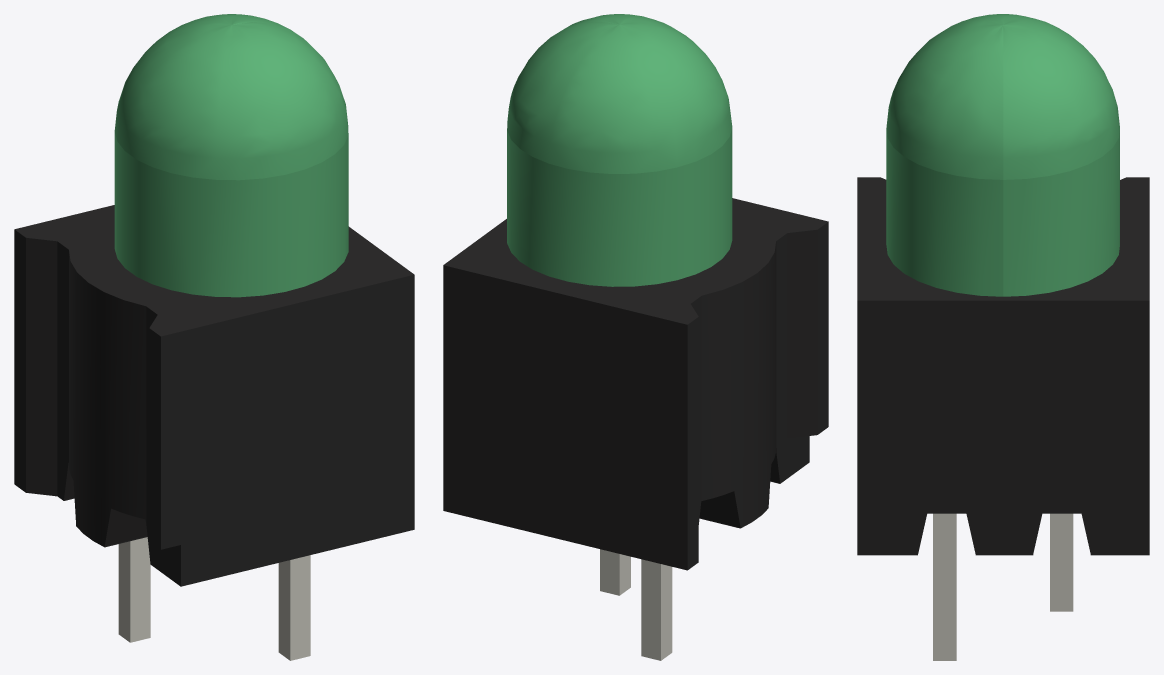
Rendered from kc-led_vcclite_5381h3_6.35x6.35mm.glb.
3 renders of one model, left to right at view 1: azimuth 30°, elevation 25°; view 2: azimuth 150°, elevation 25°; view 3: azimuth 270°, elevation 25°, orthographic. The views are drawn at different scales.
Visible parts, largest first — view 1: 0_0_0_0, 0.08333333333333333_0.4166666666666667_0.16666666666666666_0, 0.6666666666666666_0.6666666666666666_0.5833333333333334_0.8; view 2: 0_0_0_0, 0.08333333333333333_0.4166666666666667_0.16666666666666666_0, 0.6666666666666666_0.6666666666666666_0.5833333333333334_0.8; view 3: 0_0_0_0, 0.08333333333333333_0.4166666666666667_0.16666666666666666_0, 0.6666666666666666_0.6666666666666666_0.5833333333333334_0.8.
Part boxes in pixels (x1,y1,x2,y2): 0_0_0_0: (14, 205, 414, 586); 0.08333333333333333_0.4166666666666667_0.16666666666666666_0: (114, 14, 348, 297); 0.6666666666666666_0.6666666666666666_0.5833333333333334_0.8: (118, 537, 310, 660); 0_0_0_0: (443, 198, 828, 570); 0.08333333333333333_0.4166666666666667_0.16666666666666666_0: (507, 14, 732, 286); 0.6666666666666666_0.6666666666666666_0.5833333333333334_0.8: (600, 549, 672, 660); 0_0_0_0: (857, 177, 1149, 555); 0.08333333333333333_0.4166666666666667_0.16666666666666666_0: (886, 14, 1119, 296); 0.6666666666666666_0.6666666666666666_0.5833333333333334_0.8: (933, 513, 1073, 660).
Size of the model in its own units: 0.635 by 1.47 by 0.635.
